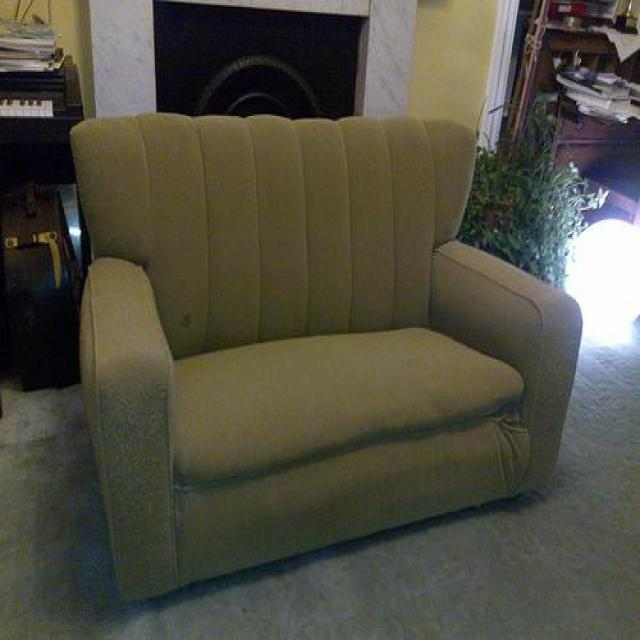sofa: (69, 110, 583, 602)
